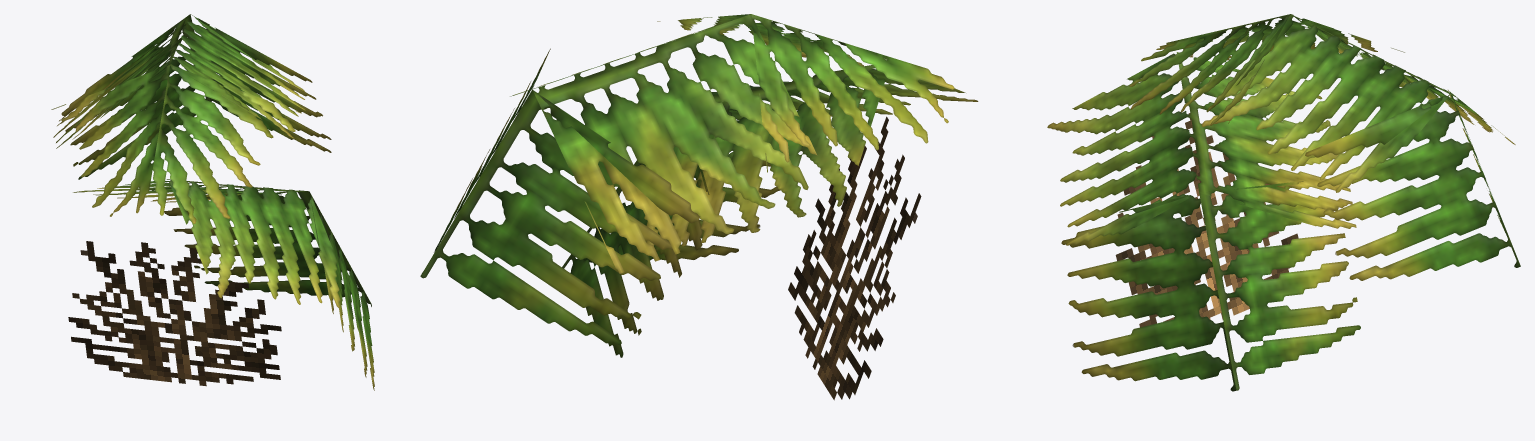
File: caribbean_royal_palm_old_corner_1.obj
3 renders of one model, left to right at view 1: azimuth 30°, elevation 25°; view 2: azimuth 150°, elevation 25°; view 3: azimuth 270°, elevation 25°, orthographic. The views are drawn at different scales.
Parts seen in each view (by area): view 1: cube.370; view 2: cube.370; view 3: cube.370.
Part boxes in pixels (x1,y1,x2,y2): cube.370: (51,14,374,390); cube.370: (420,14,978,400); cube.370: (1047,14,1520,391).
Bounding box in the file's own units: 2.74 × 2.28 × 2.94.
